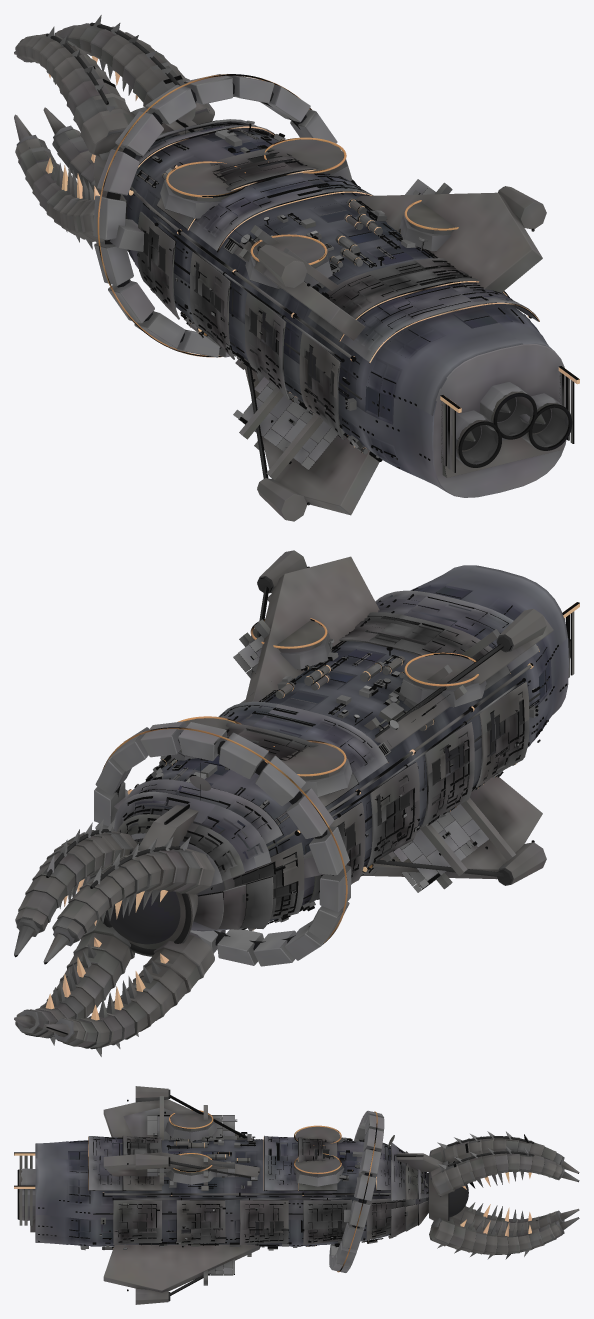
The model's file is maw_cruiser_hero.glb.
The picture shows the model from 3 angles, top to bottom: view 1: azimuth 30°, elevation 25°; view 2: azimuth 150°, elevation 25°; view 3: azimuth 270°, elevation 25°; orthographic projection. The views are drawn at different scales.
Visible parts, largest first — view 1: HullBaked; view 2: HullBaked; view 3: HullBaked.
Boxes of the visible parts, x1,y1,x2,y2 form: HullBaked: (14, 15, 579, 521); HullBaked: (14, 550, 579, 1056); HullBaked: (14, 1086, 579, 1304).
Bounding box in the file's own units: 102 × 96.23 × 325.
Materials: 1 (1 with a texture image).
